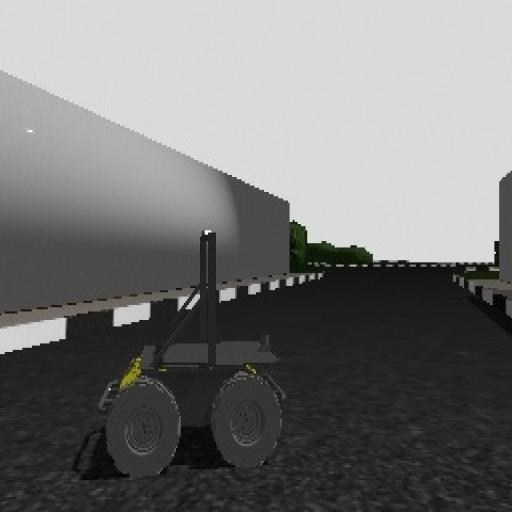huskya200: (65, 224, 295, 499)
